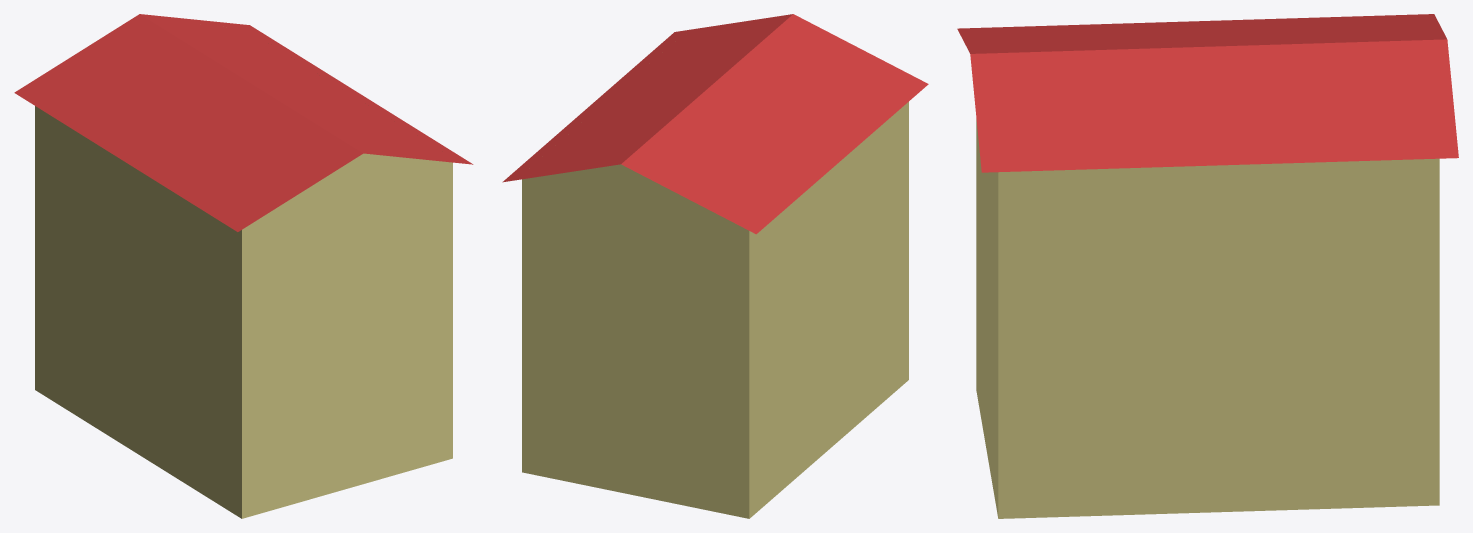
3 views of the same model, side by side, from view 1: azimuth 30°, elevation 25°; view 2: azimuth 150°, elevation 25°; view 3: azimuth 270°, elevation 25° (orthographic). The views are drawn at different scales.
Bounding box in the file's own units: 5.24 × 7 × 6.25.
